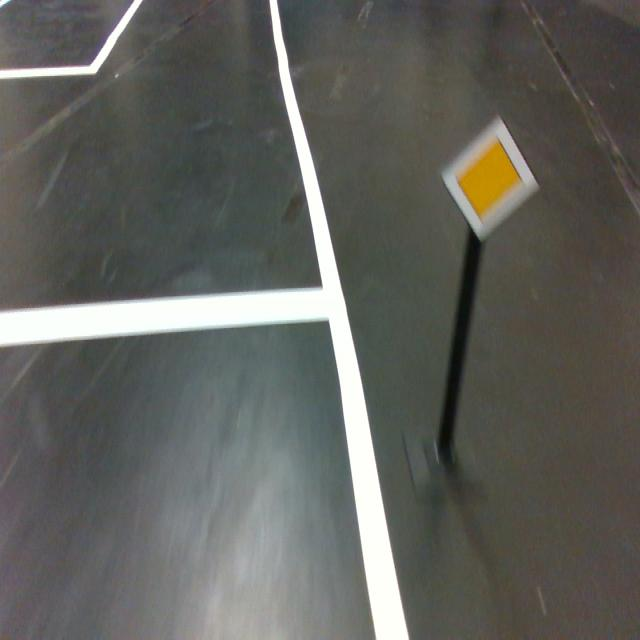priority-sign: (440, 112, 540, 245)
